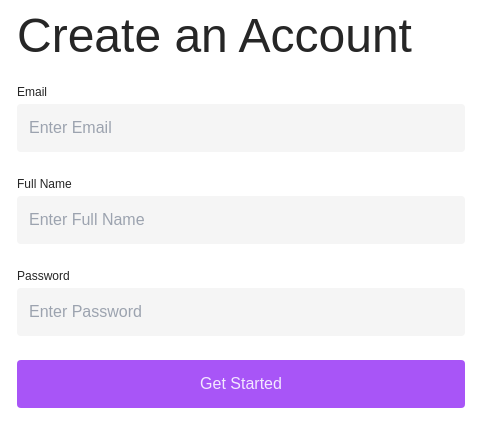
Test: Register Form › must show error message when password is invalid
Type "test@test.com" into the field with id "email".
click(241, 128); type("test@test.com")  # box x1=17 y1=104 x2=465 y2=152
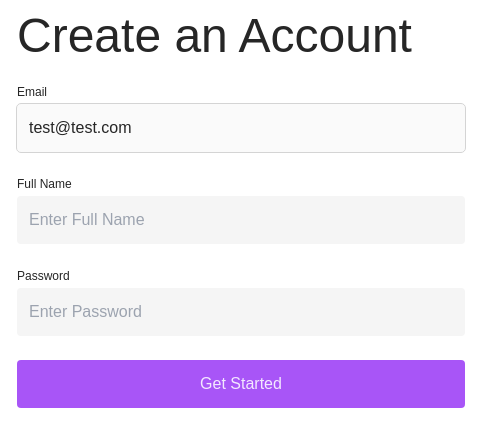
Type "John Doe" into the field with id "fullName".
click(241, 220); type("John Doe")  # box x1=17 y1=196 x2=465 y2=244
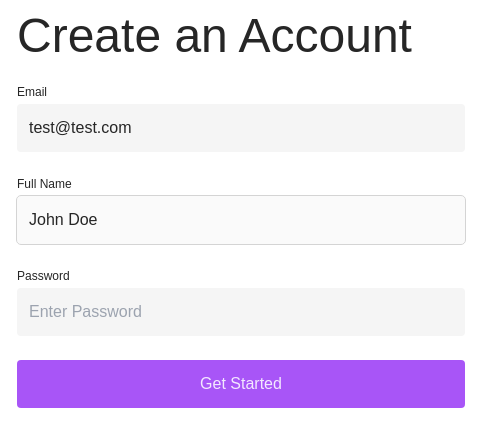
Type "passw" into the password field labelled "Password".
click(241, 312); type("passw")  # box x1=17 y1=288 x2=465 y2=336
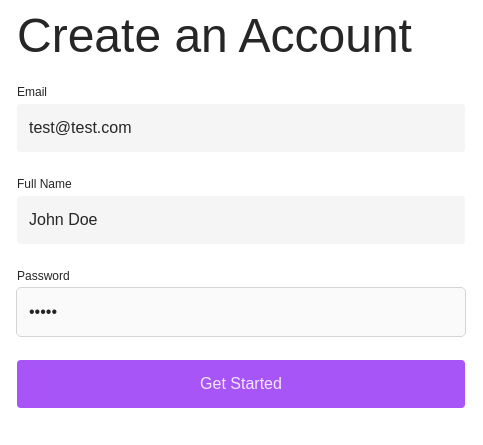
Submit the form
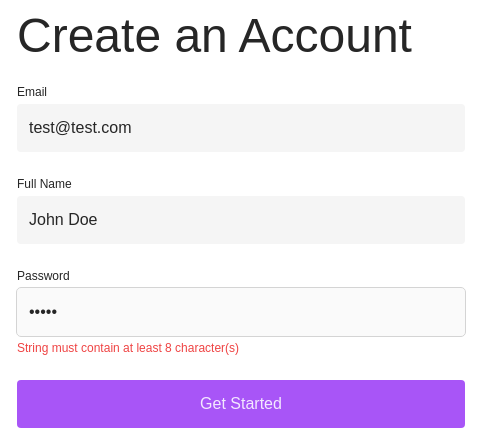
Expected: the text "String must contain at least 8 character(s)" is shown, x1=17 y1=341 x2=239 y2=355
